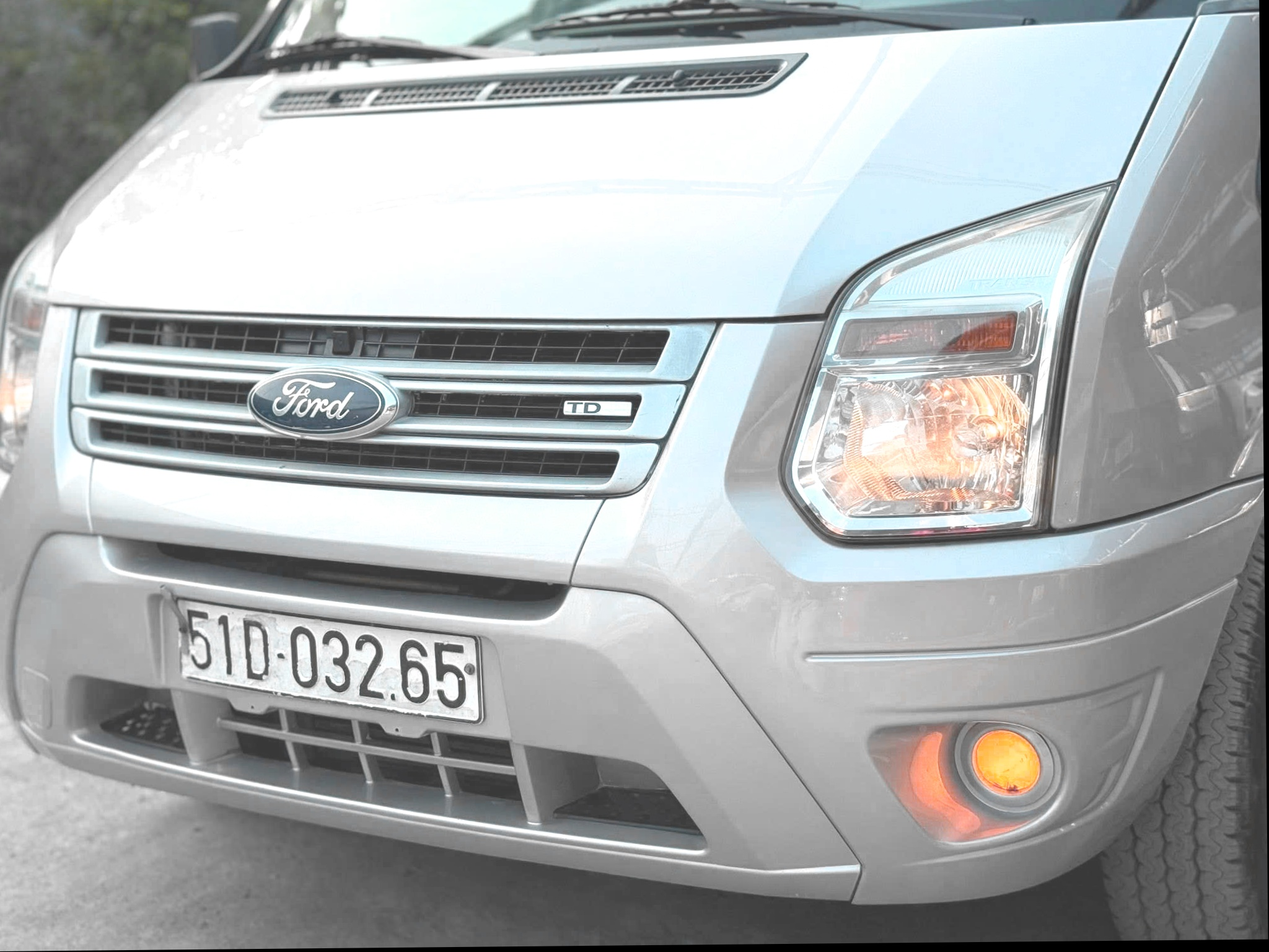Bien-so: (233, 579, 537, 738)
